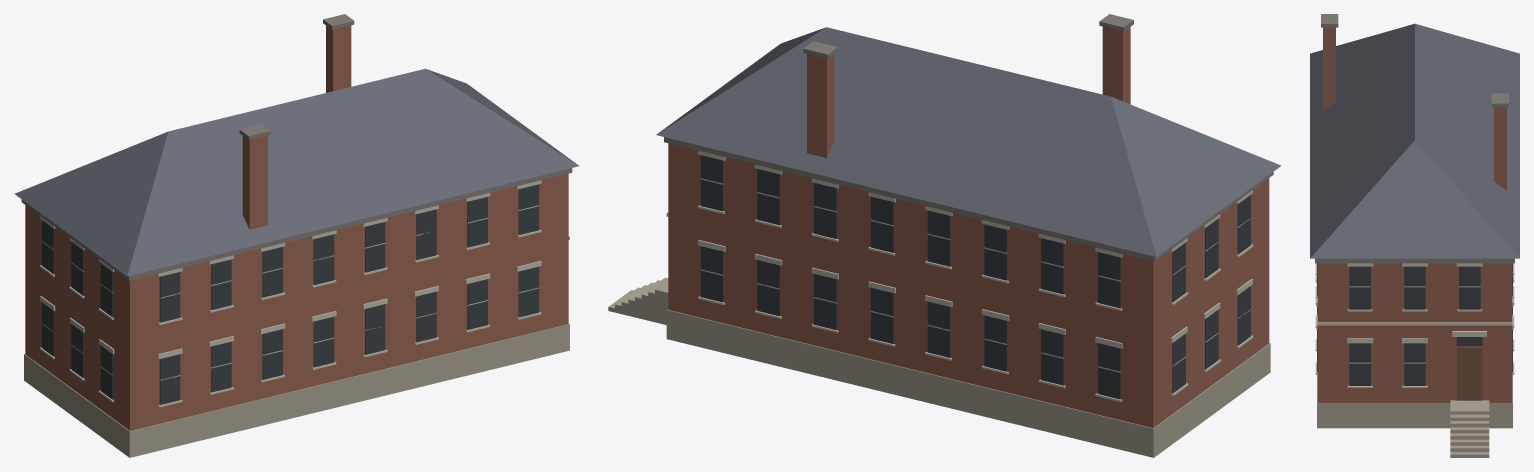
The model's file is house_1830_calumet__draft_1904.glb.
The picture shows the model from 3 angles, left to right: view 1: azimuth 30°, elevation 25°; view 2: azimuth 150°, elevation 25°; view 3: azimuth 270°, elevation 25°; orthographic projection. The views are drawn at different scales.
Parts seen in each view (by area): view 1: house_1830_calumet__draft_1904; view 2: house_1830_calumet__draft_1904; view 3: house_1830_calumet__draft_1904.
Boxes of the visible parts, x1,y1,x2,y2 form: house_1830_calumet__draft_1904: [14, 14, 579, 457]; house_1830_calumet__draft_1904: [608, 14, 1281, 457]; house_1830_calumet__draft_1904: [1310, 14, 1519, 457].
Bounding box in the file's own units: 25.4 × 13.77 × 9.7.
